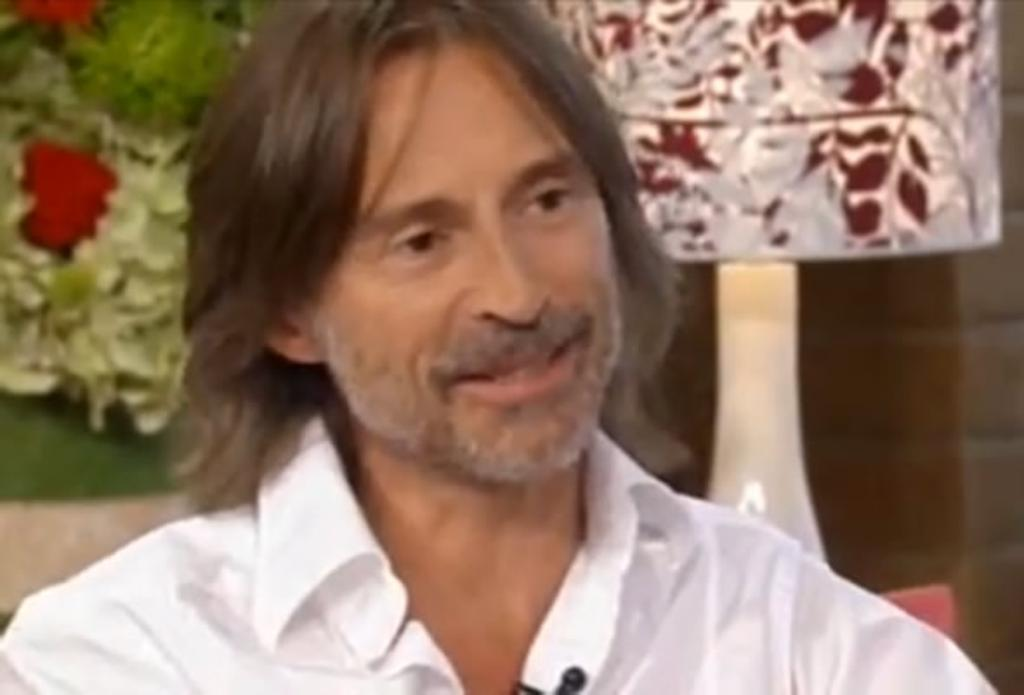face: (316, 46, 620, 488)
